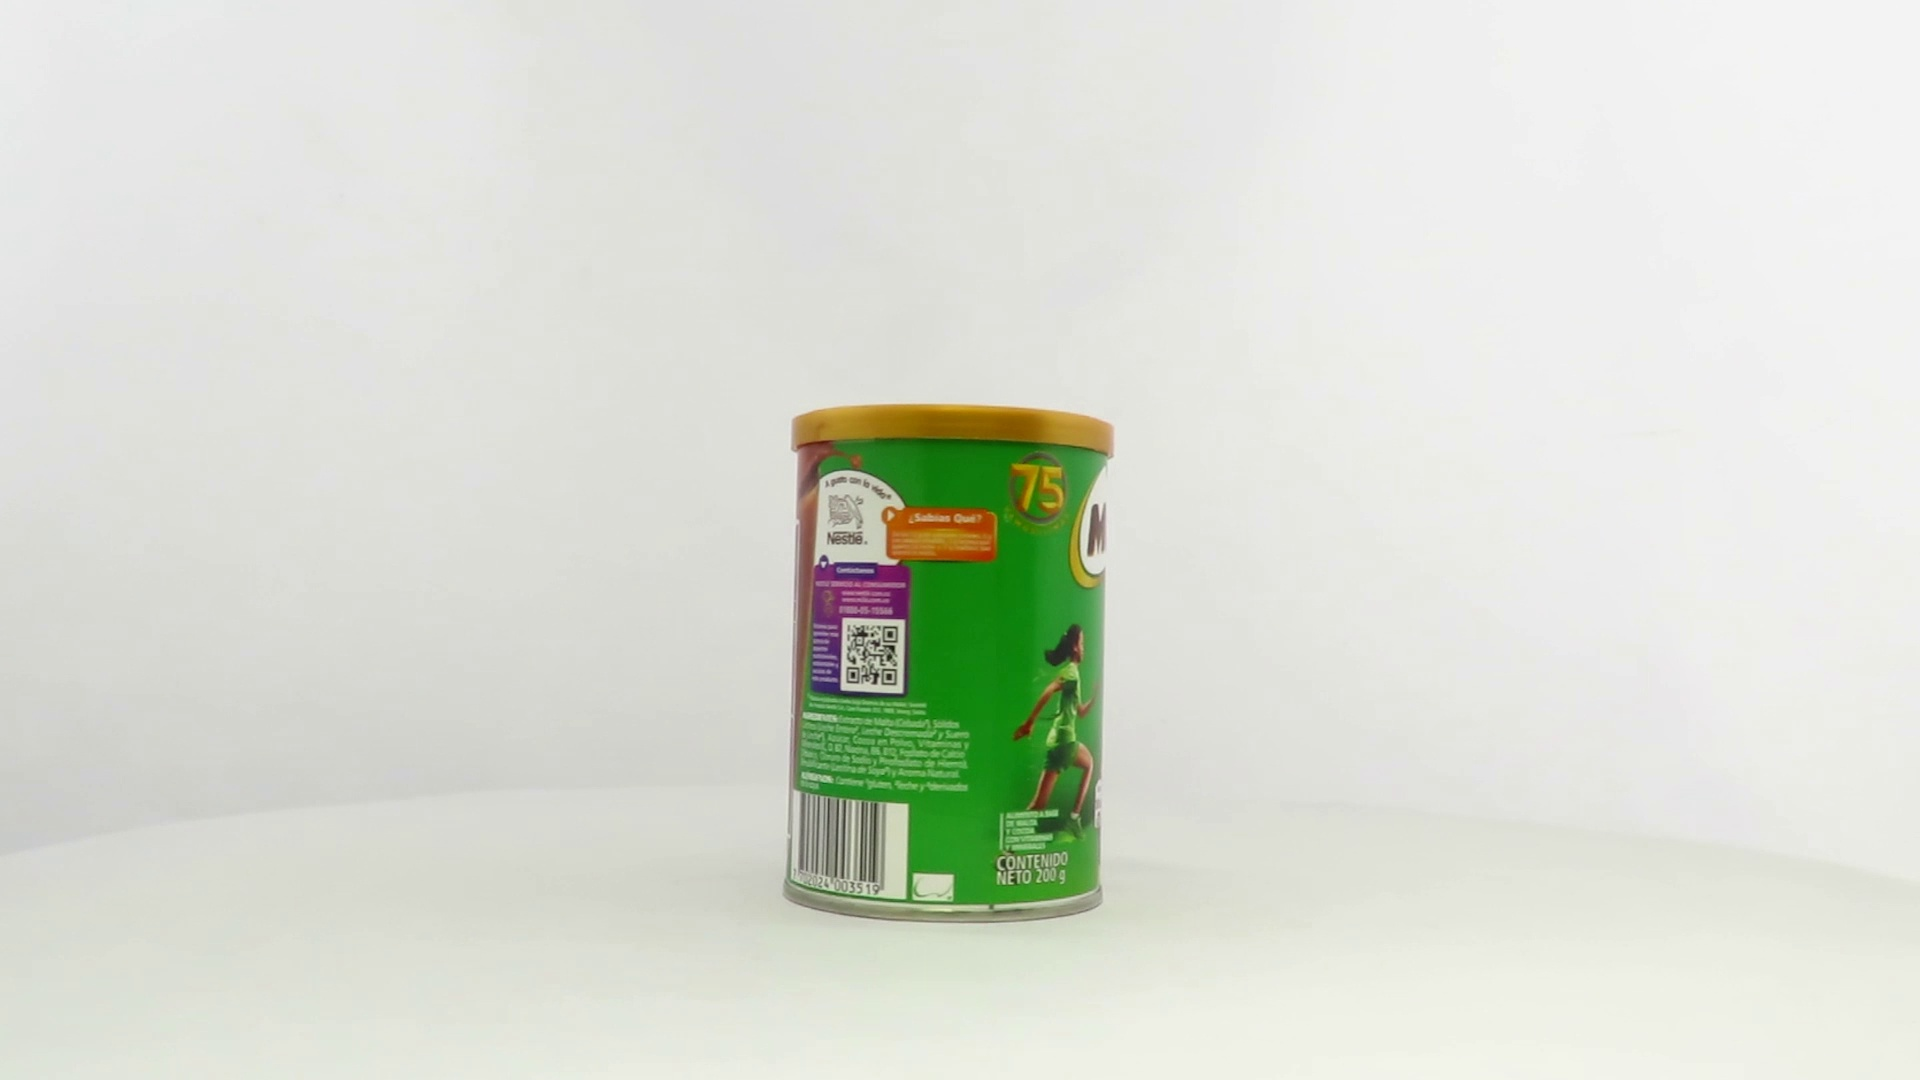COL0170203LAT20000: (777, 400, 1121, 930)
